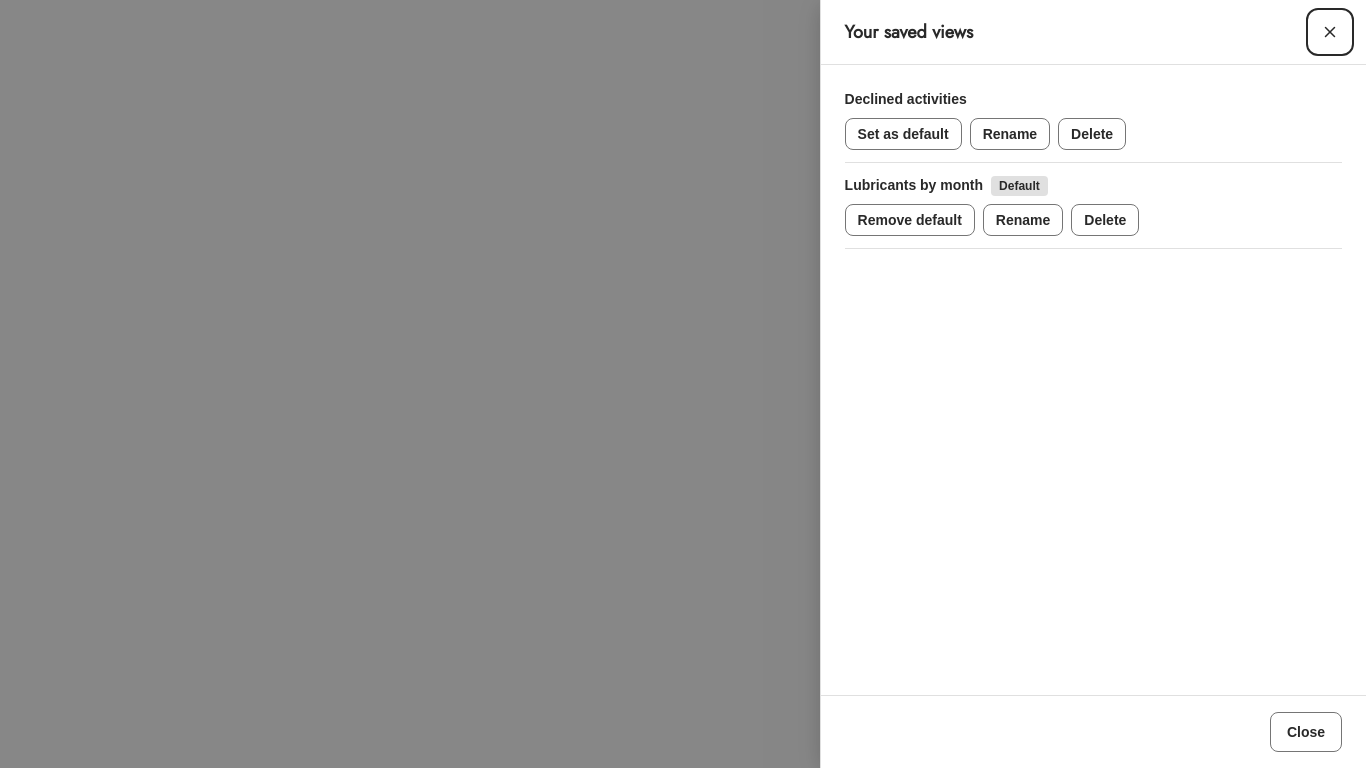
ManageViewsPanel (US6, FR-031) › renames a view, refusing a name the person already uses (FR-029, FR-031)
Click the button named "Rename Declined activities": point(1010, 134) 970,118 -> 1050,150
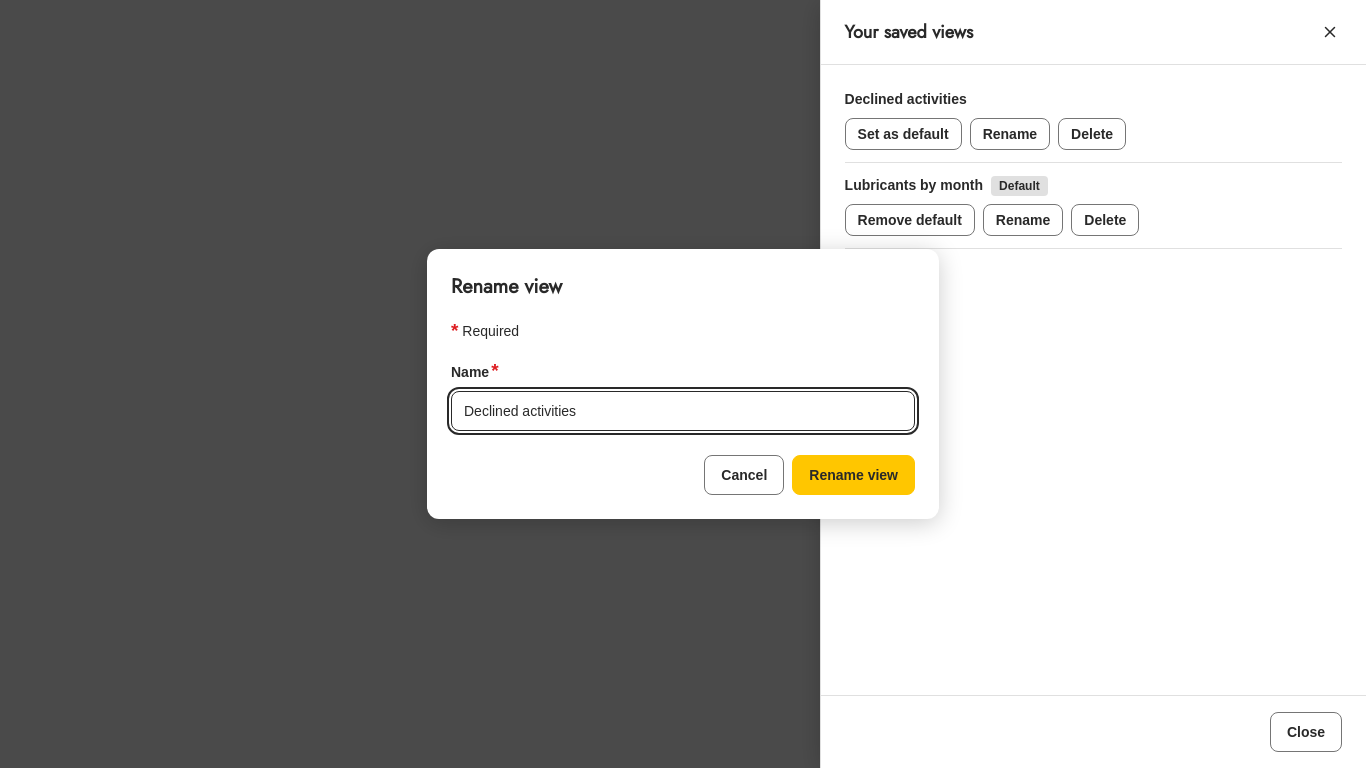
Result: the field labelled "Name" holds "Declined activities"
Replace the text in the field labelled "Name" with "LUBRICANTS by month": point(683, 411) 451,391 -> 915,431
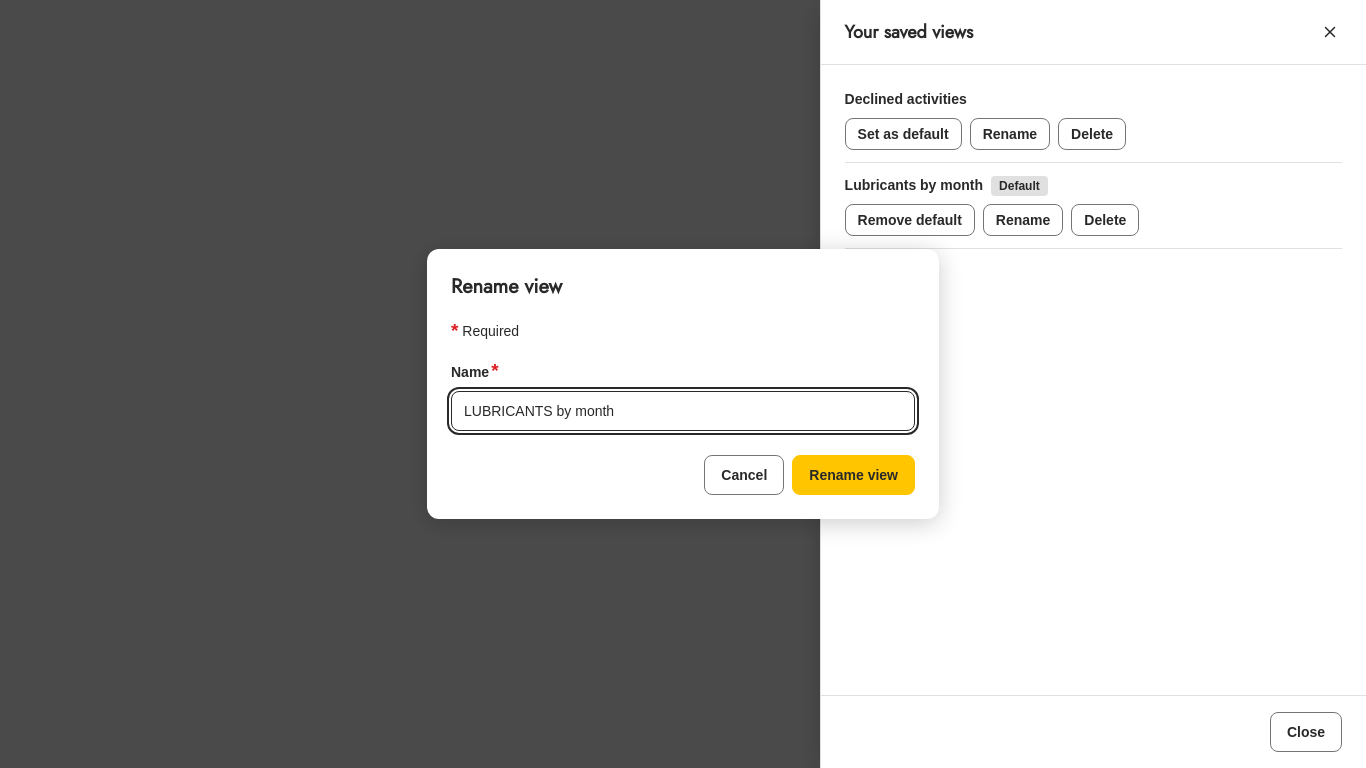
Click the button "Rename view": point(854, 475) 792,455 -> 915,495
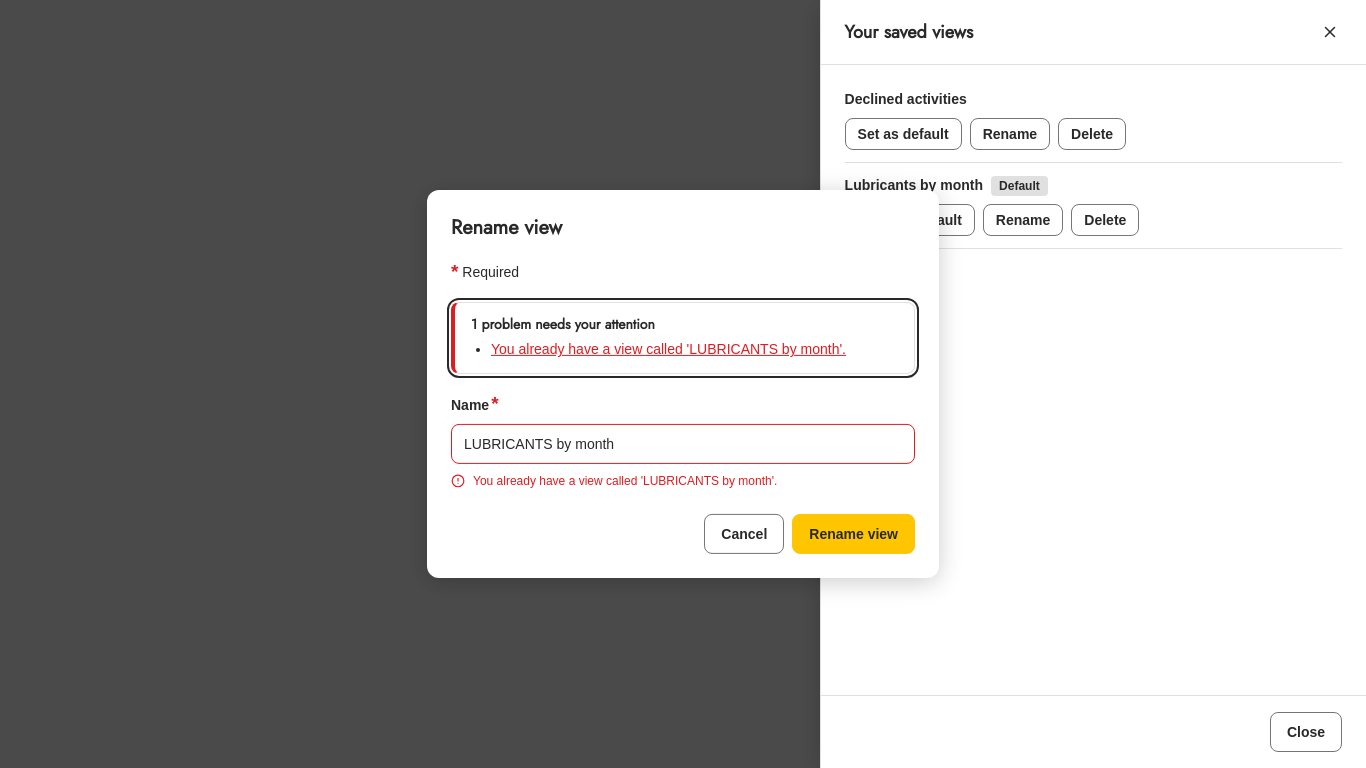
Replace the text in the field labelled "Name" with "Declined in Europe": point(683, 444) 451,424 -> 915,464
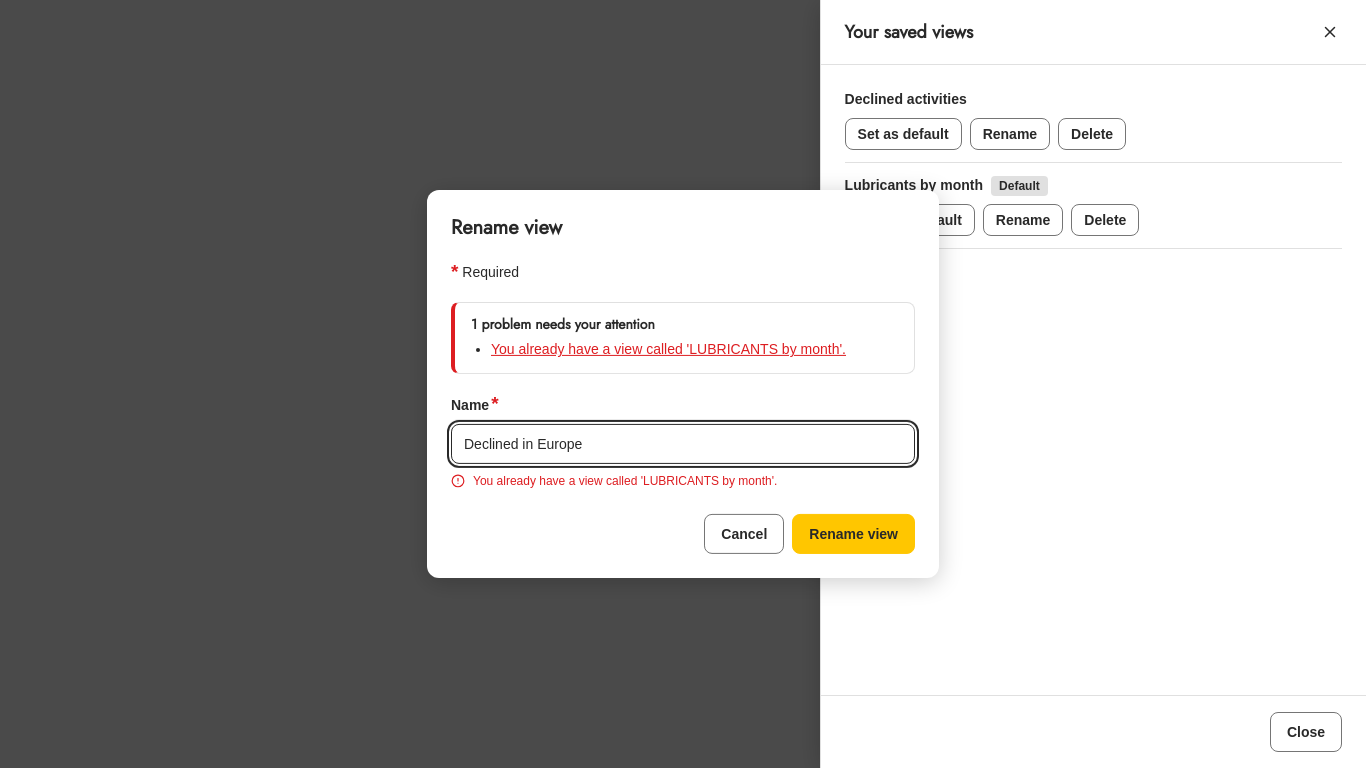
Click the button "Rename view": point(854, 534) 792,514 -> 915,554
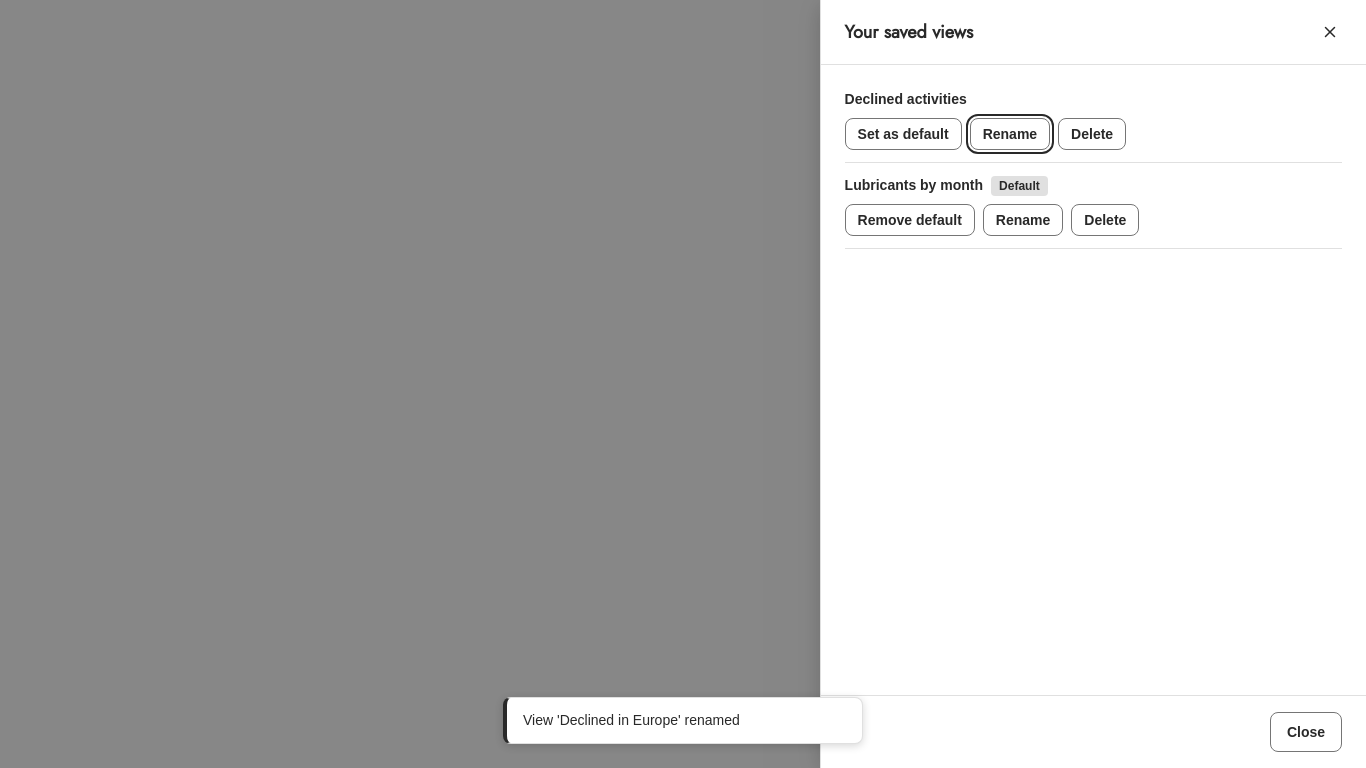
Result: the text "View 'Declined in Europe' renamed" is shown at 523,712 -> 740,728
